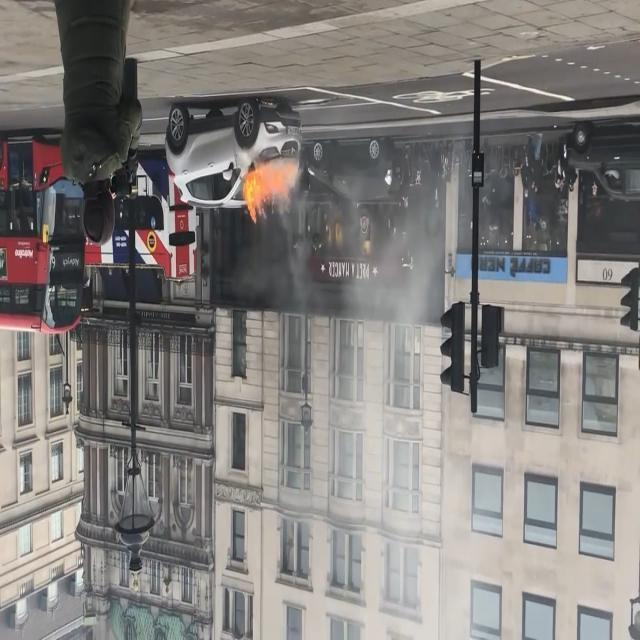fire: (242, 156, 308, 229)
